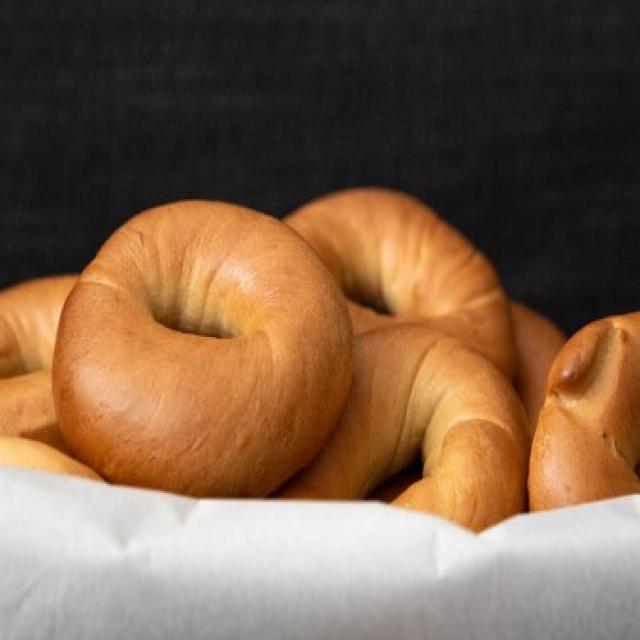Bagel: (52, 201, 351, 495), (285, 324, 526, 530), (286, 189, 514, 376), (530, 313, 640, 509)
